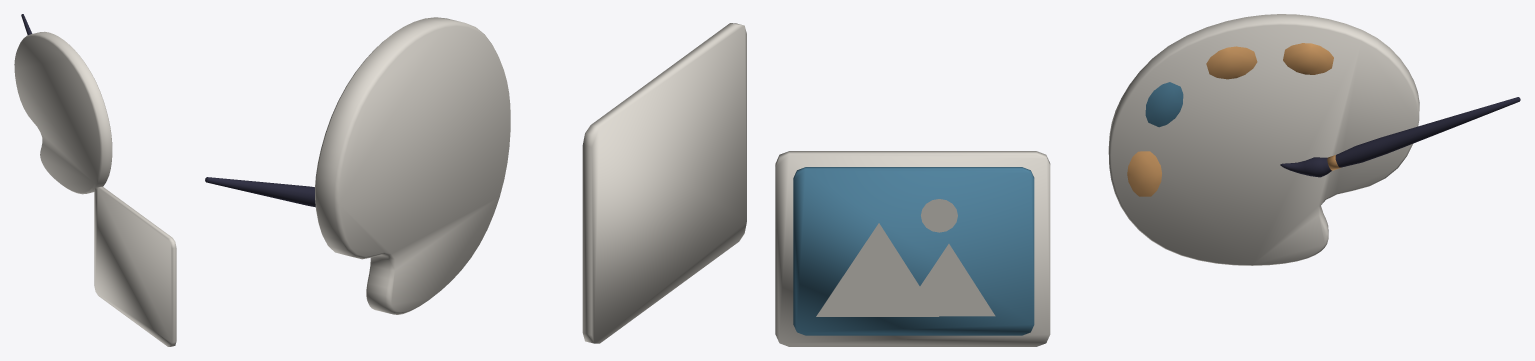
File: Design.gltf
The picture shows the model from 3 angles, left to right: view 1: azimuth 30°, elevation 25°; view 2: azimuth 150°, elevation 25°; view 3: azimuth 270°, elevation 25°; orthographic projection. The views are drawn at different scales.
Visible parts, largest first — view 1: Pinzelborste.001; view 2: Pinzelborste.001; view 3: Pinzelborste.001.
Part boxes in pixels (<box>): Pinzelborste.001: <box>14,14,176,346</box>; Pinzelborste.001: <box>205,17,746,343</box>; Pinzelborste.001: <box>775,14,1520,346</box>.
Bounding box in the file's own units: 0.0514 × 0.158 × 0.3045.
